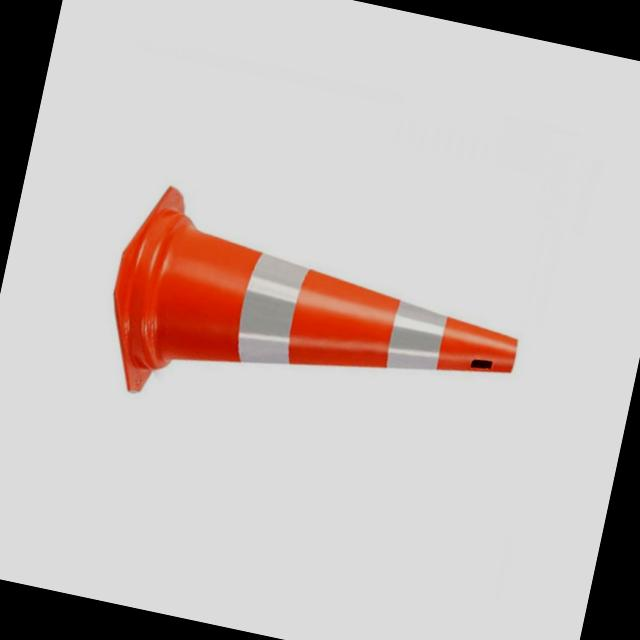cone: (96, 170, 545, 480)
